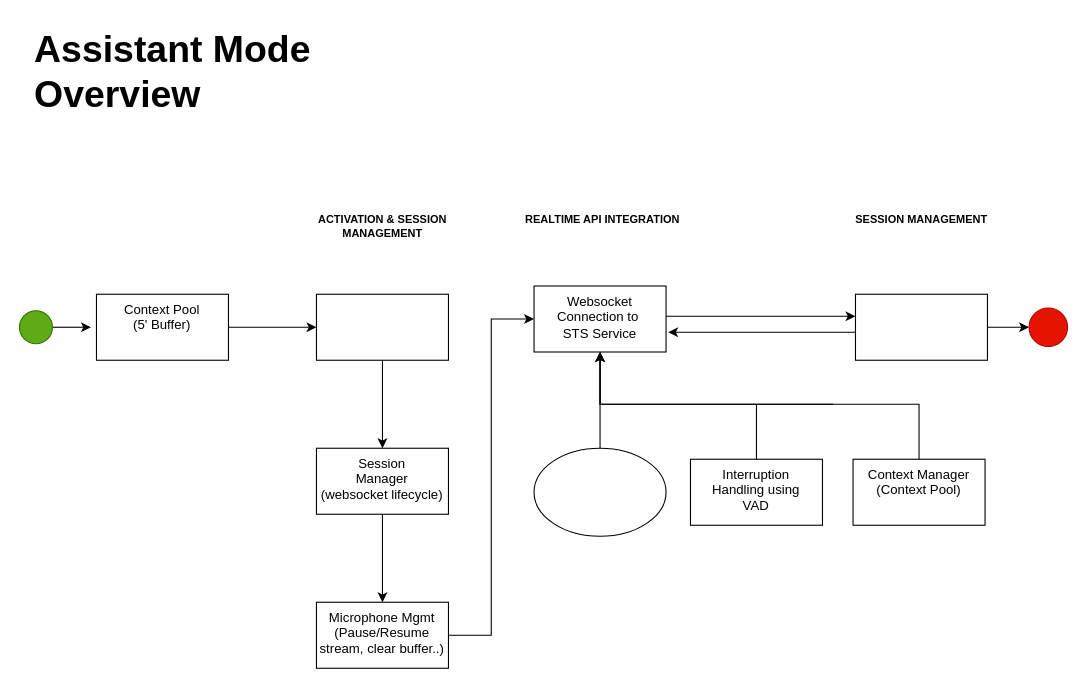
Image size: 1087x688. Some labels were removed from this diagram. The centre of each missing label's shape, as x and y in pixels:
"End-of-conversation detection (end connection)" goes at point (920, 326).
"Tools External Data ...." goes at point (599, 491).
"Trigger Detection (Activation Phrases)" goes at point (381, 326).
